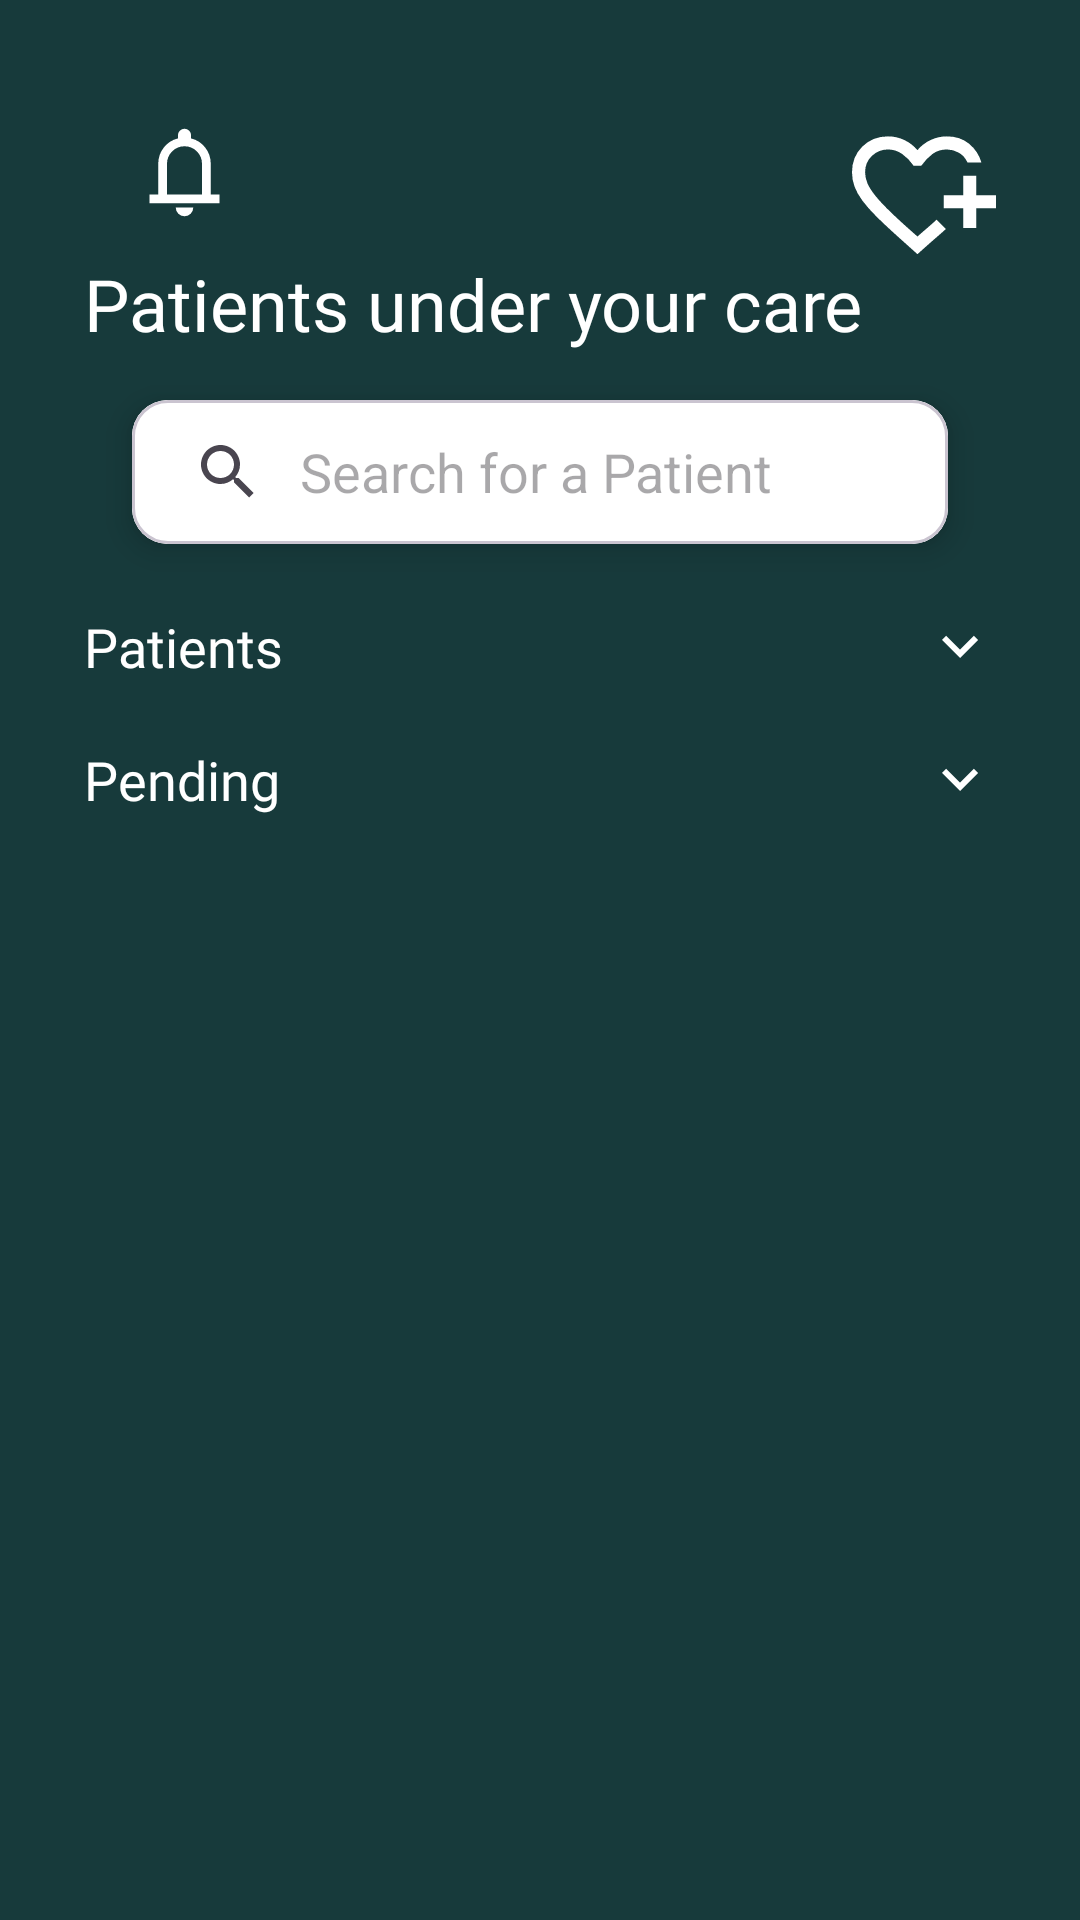

Where to tap for icons on this 1080*1920 app screen, as (x,y):
arrow down: (960,647), (960,780)
Notification button: (184,172)
